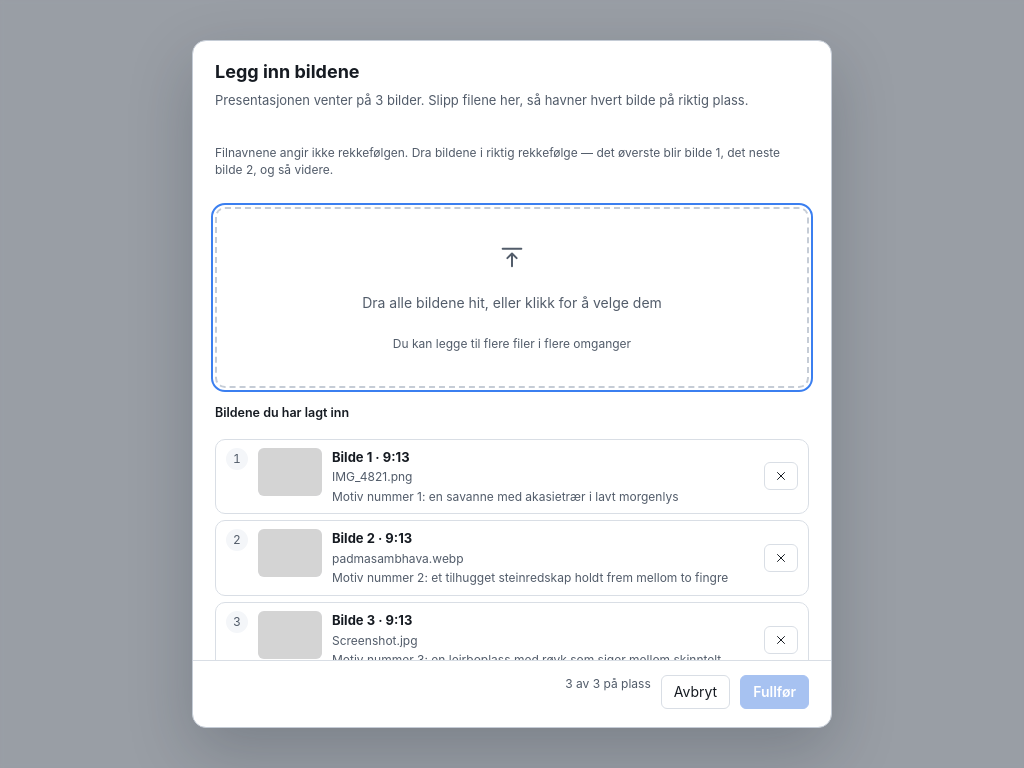
ImageDepositModal – rekkefølgen fra brukeren › lar musedrag bytte hvilken fil som blir bilde 1
Earlier steps of the test are not shown.
Press the mouse on the list item that starts with "Bilde 3" at (512, 640), box [215, 602, 809, 677]
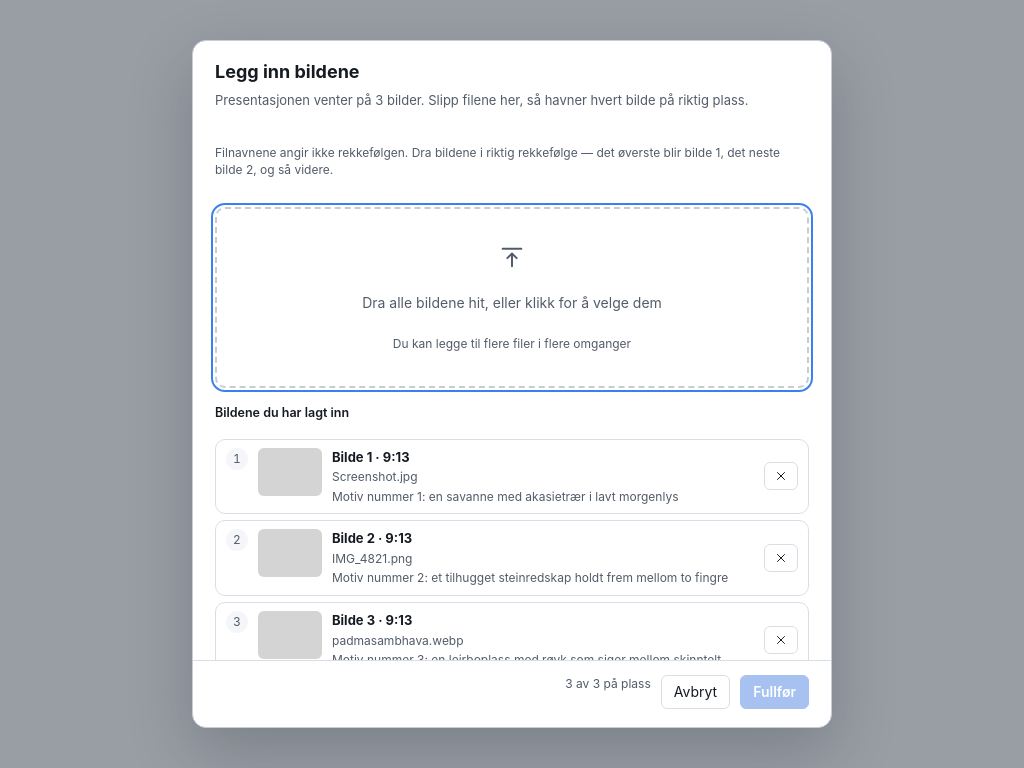
Expected: the list item that starts with "Bilde 1" shows "Motiv nummer 1", [332, 489, 678, 504]
Now the list item that starts with "Bilde 1" shows "Screenshot.jpg", box [332, 469, 418, 484]
